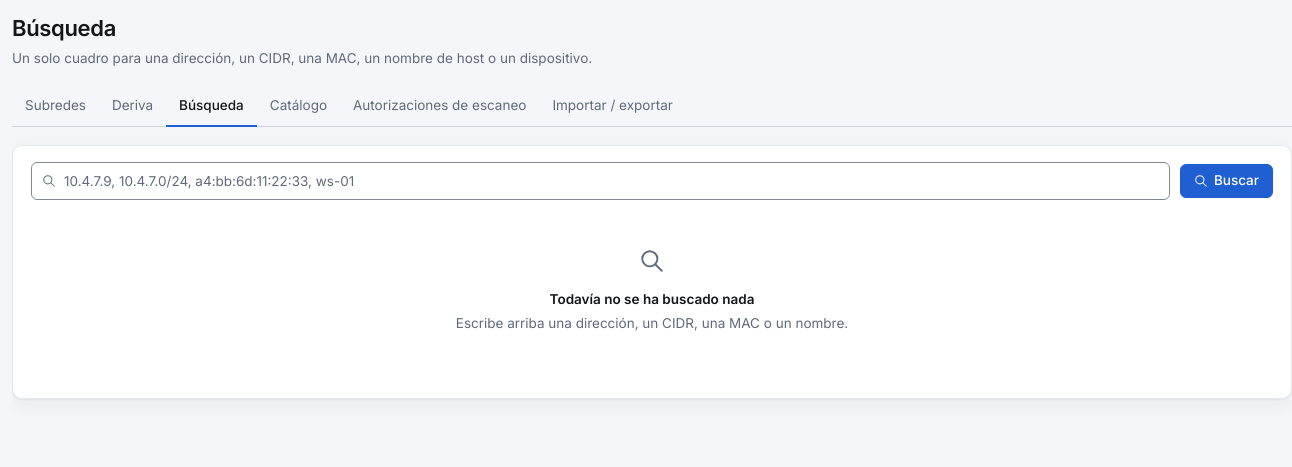
Test: the search page in Spanish › leaves a kind it has no sentence for unexplained
Type "abc" into the field named "Buscar direcciones, subredes y dispositivos" at (600, 181), box x1=31 y1=162 x2=1170 y2=200
Then press Enter
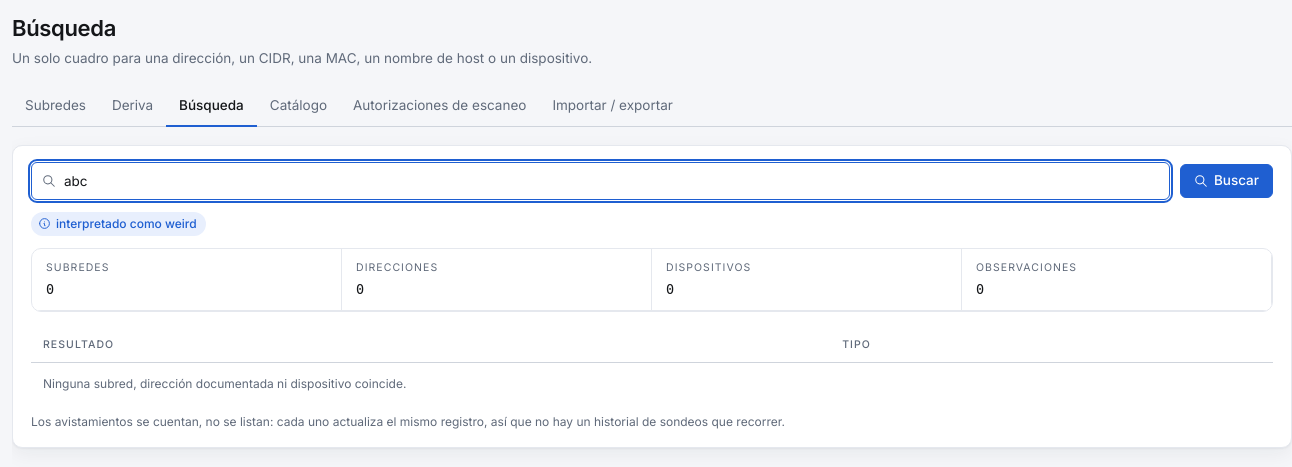
Expected: the text "interpretado como weird" is shown, x1=31 y1=212 x2=206 y2=236
